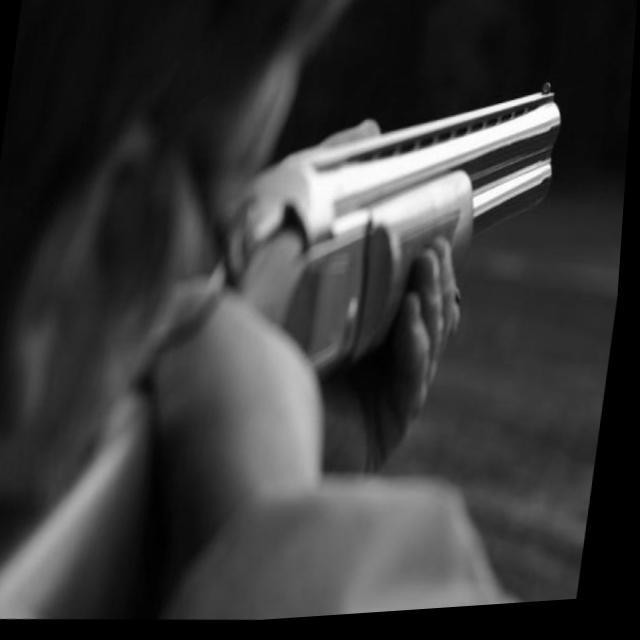weapon: (196, 63, 572, 410)
